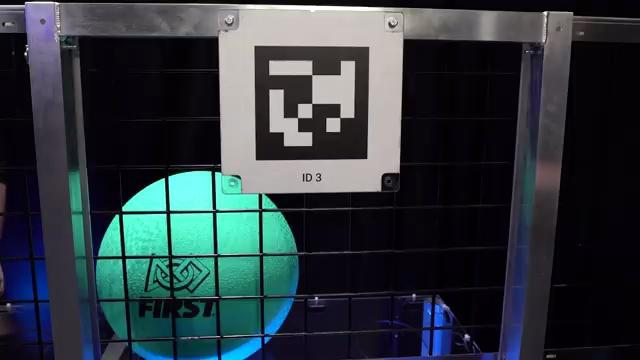ALGAE: (94, 168, 300, 358)
